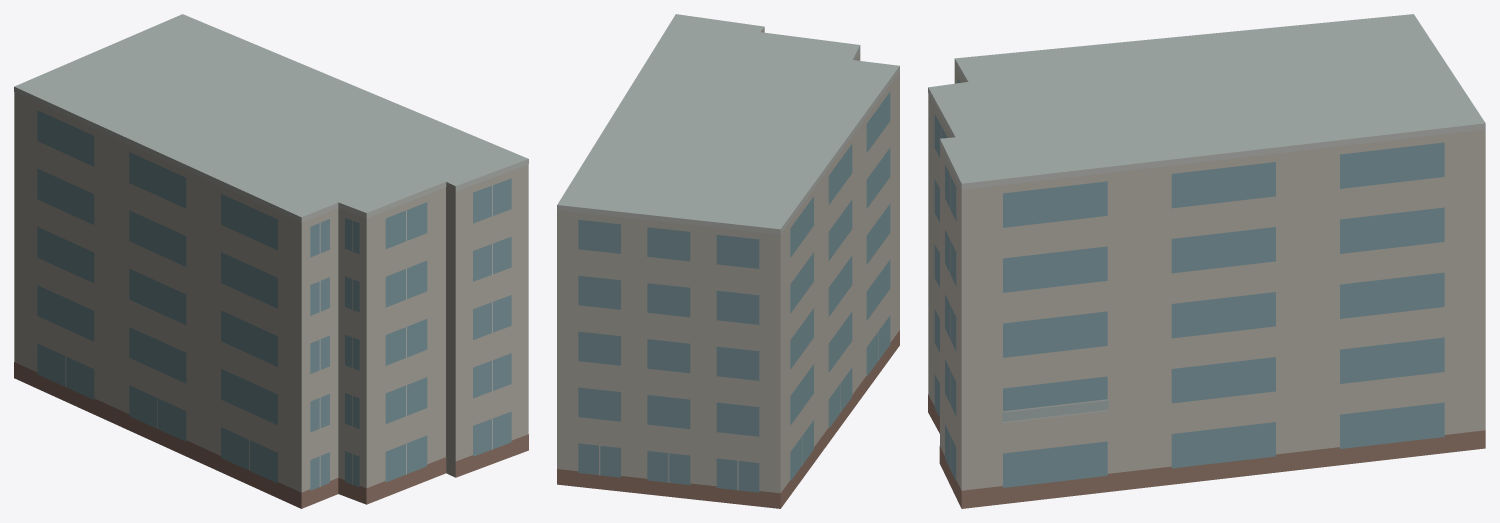
File: survey-upis-32651314.glb
The picture shows the model from 3 angles, left to right: view 1: azimuth 30°, elevation 25°; view 2: azimuth 150°, elevation 25°; view 3: azimuth 270°, elevation 25°; orthographic projection. The views are drawn at different scales.
Visible parts, largest first — view 1: survey-upis-32651314.tmp; view 2: survey-upis-32651314.tmp; view 3: survey-upis-32651314.tmp.
Part boxes in pixels (x1=…): survey-upis-32651314.tmp: x1=14, y1=14, x2=528, y2=508; survey-upis-32651314.tmp: x1=557, y1=14, x2=899, y2=508; survey-upis-32651314.tmp: x1=928, y1=14, x2=1485, y2=508.
Size of the model in its own units: 14.68 by 13.1 by 20.37.
